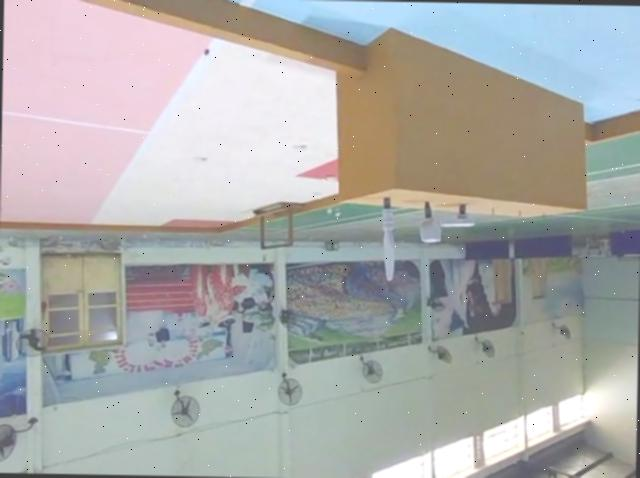Fist: (419, 203, 444, 244)
Hand: (448, 203, 474, 228)
Sph: (374, 195, 399, 278)
